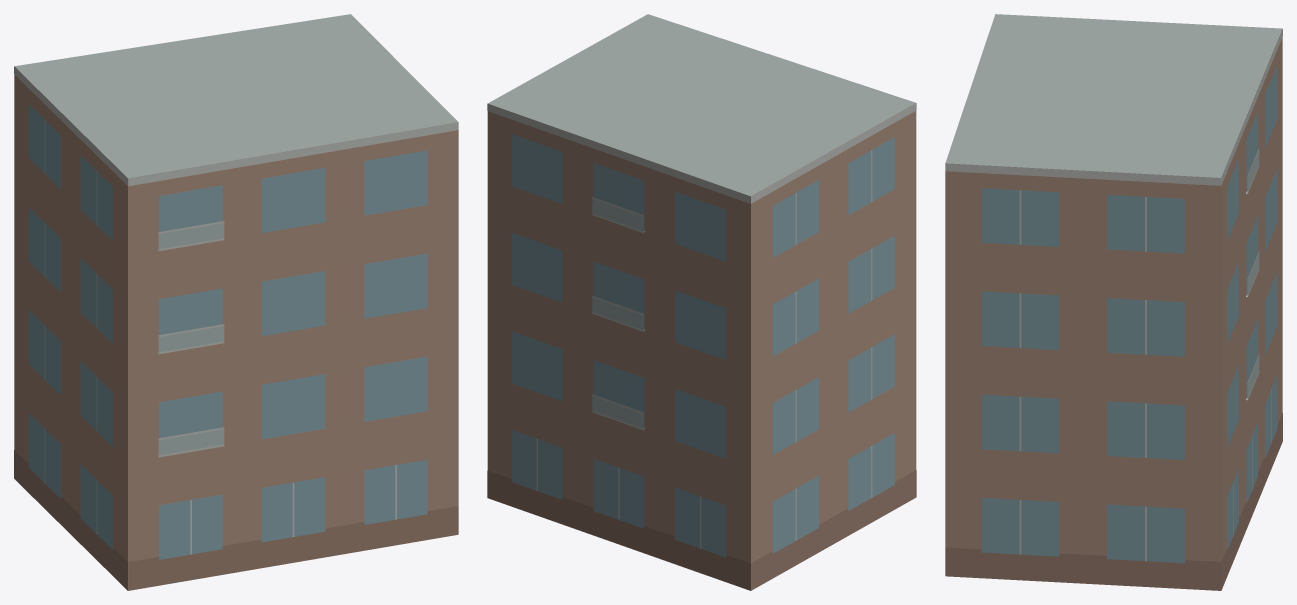
The model's file is survey-upis-32620659.glb.
The picture shows the model from 3 angles, left to right: view 1: azimuth 30°, elevation 25°; view 2: azimuth 150°, elevation 25°; view 3: azimuth 270°, elevation 25°; orthographic projection. The views are drawn at different scales.
Visible parts, largest first — view 1: survey-upis-32620659.tmp; view 2: survey-upis-32620659.tmp; view 3: survey-upis-32620659.tmp.
Part boxes in pixels (left/top/right/bottom): survey-upis-32620659.tmp: left=14, top=14, right=458, bottom=590; survey-upis-32620659.tmp: left=487, top=14, right=916, bottom=590; survey-upis-32620659.tmp: left=945, top=14, right=1282, bottom=590.
Size of the model in its own units: 10.91 by 12.8 by 9.49.
